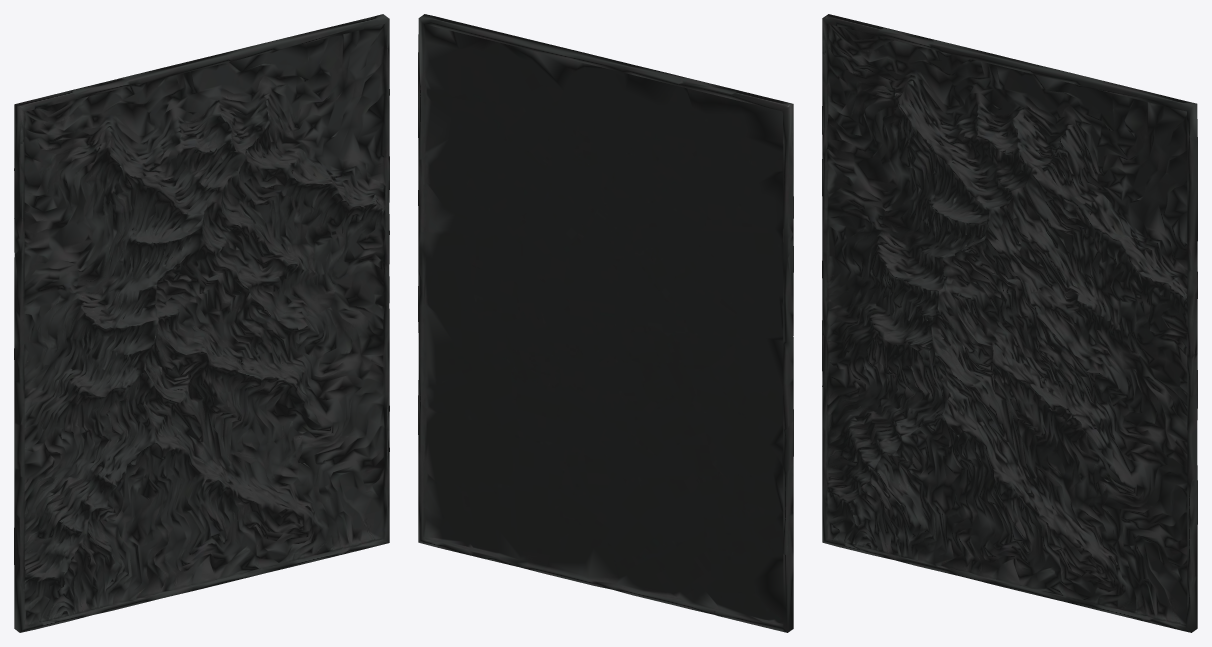
Rendered from topographic-wall-panel.glb.
The picture shows the model from 3 angles, left to right: view 1: azimuth 30°, elevation 25°; view 2: azimuth 150°, elevation 25°; view 3: azimuth 330°, elevation 25°; orthographic projection.
Bounding box in the file's own units: 1.4 × 1.9 × 0.112.
1 material, 1 textured.
